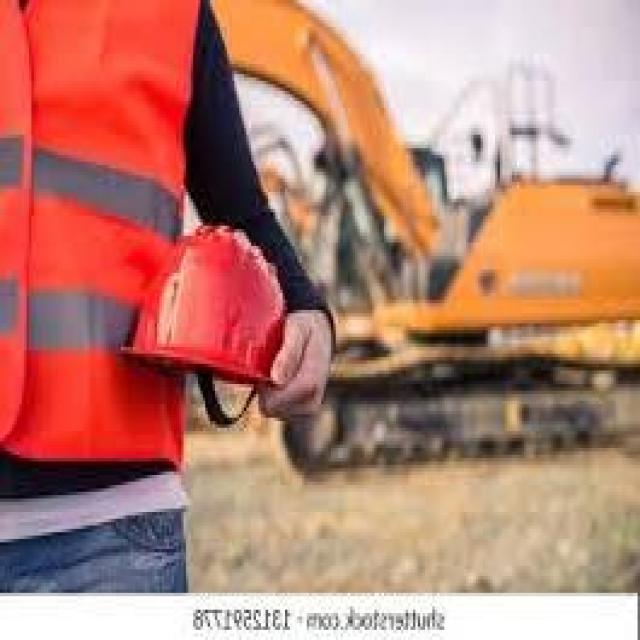Reflective-Jacket: (0, 0, 215, 482)
Safety-Helmet: (121, 205, 302, 401)
